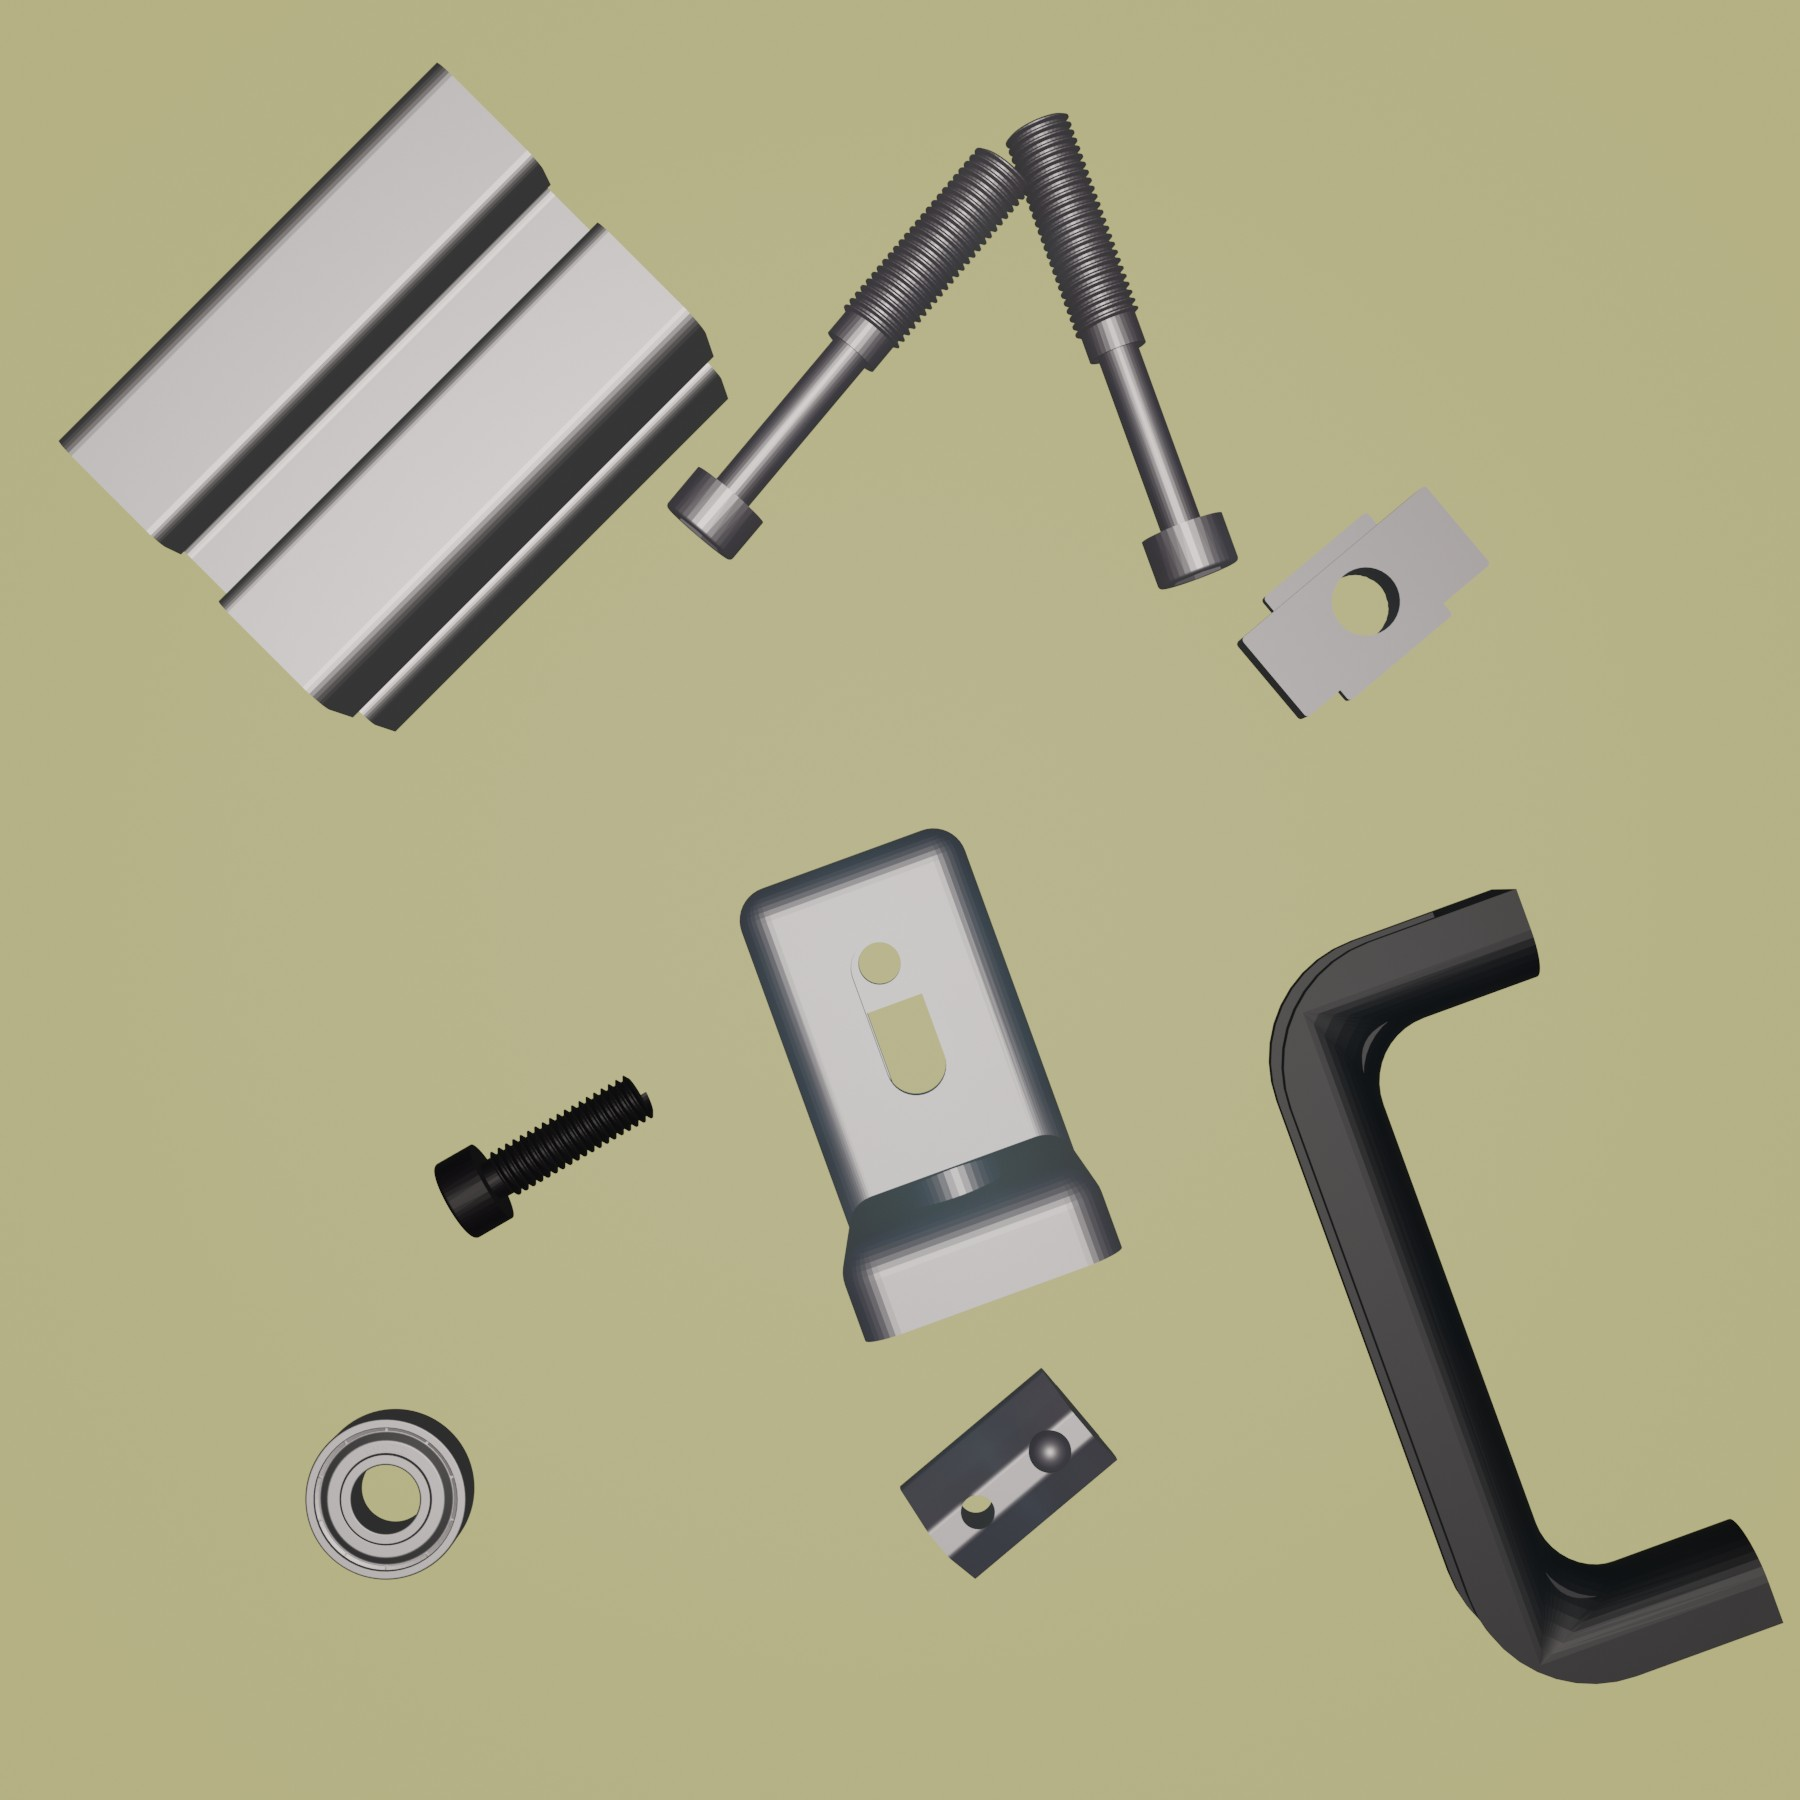Aluminium Extension: (53, 59, 729, 735)
Ball Bearing: (303, 1408, 476, 1584)
Multiwinkel: (738, 826, 1124, 1343)
Pull Handle: (1266, 888, 1790, 1690)
Shoulder Socket Head Cap Screw: (668, 143, 1029, 562), (1005, 109, 1236, 593)
Socket Head Cap Screw: (434, 1071, 658, 1241)
T Nut Square: (1235, 481, 1493, 724)
T Spring Nut: (900, 1362, 1119, 1581)
